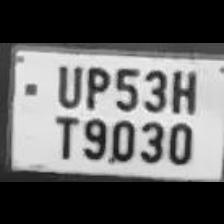0: (164, 116, 196, 164), (106, 112, 134, 160)
3: (140, 63, 166, 111), (136, 116, 163, 162)
5: (109, 62, 141, 110)
9: (78, 111, 108, 158)
H: (166, 65, 200, 115)
P: (82, 62, 110, 110)
T: (47, 111, 79, 159)
U: (51, 59, 83, 107)
